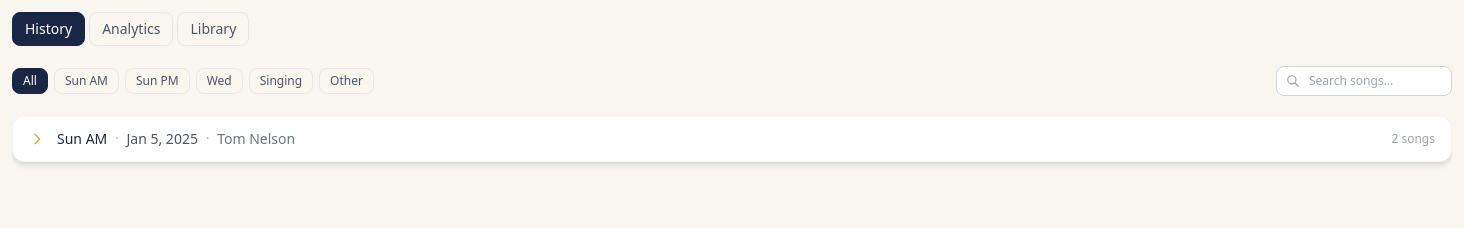
SongTrackerView — a service record › expanding fetches and shows its songs
Click the text "Tom Nelson". click: [256, 139]
box: top-left (217, 129), bottom-right (295, 149)
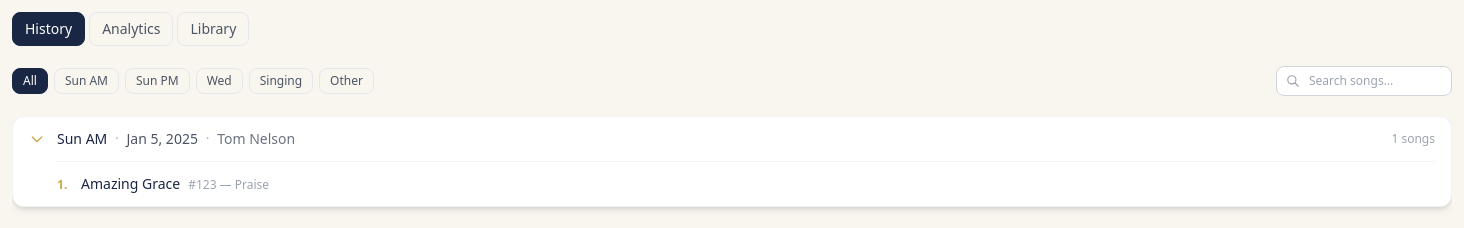
Expected: the text "Amazing Grace" is shown, top-left (81, 174), bottom-right (180, 194)
Expected: the text "#123 — Praise" is shown, top-left (188, 177), bottom-right (269, 193)
